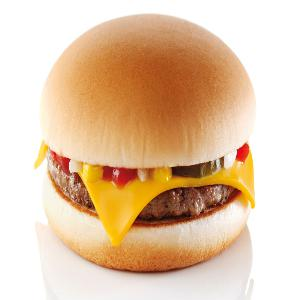cheeseburger_475cal: (30, 11, 268, 272)
